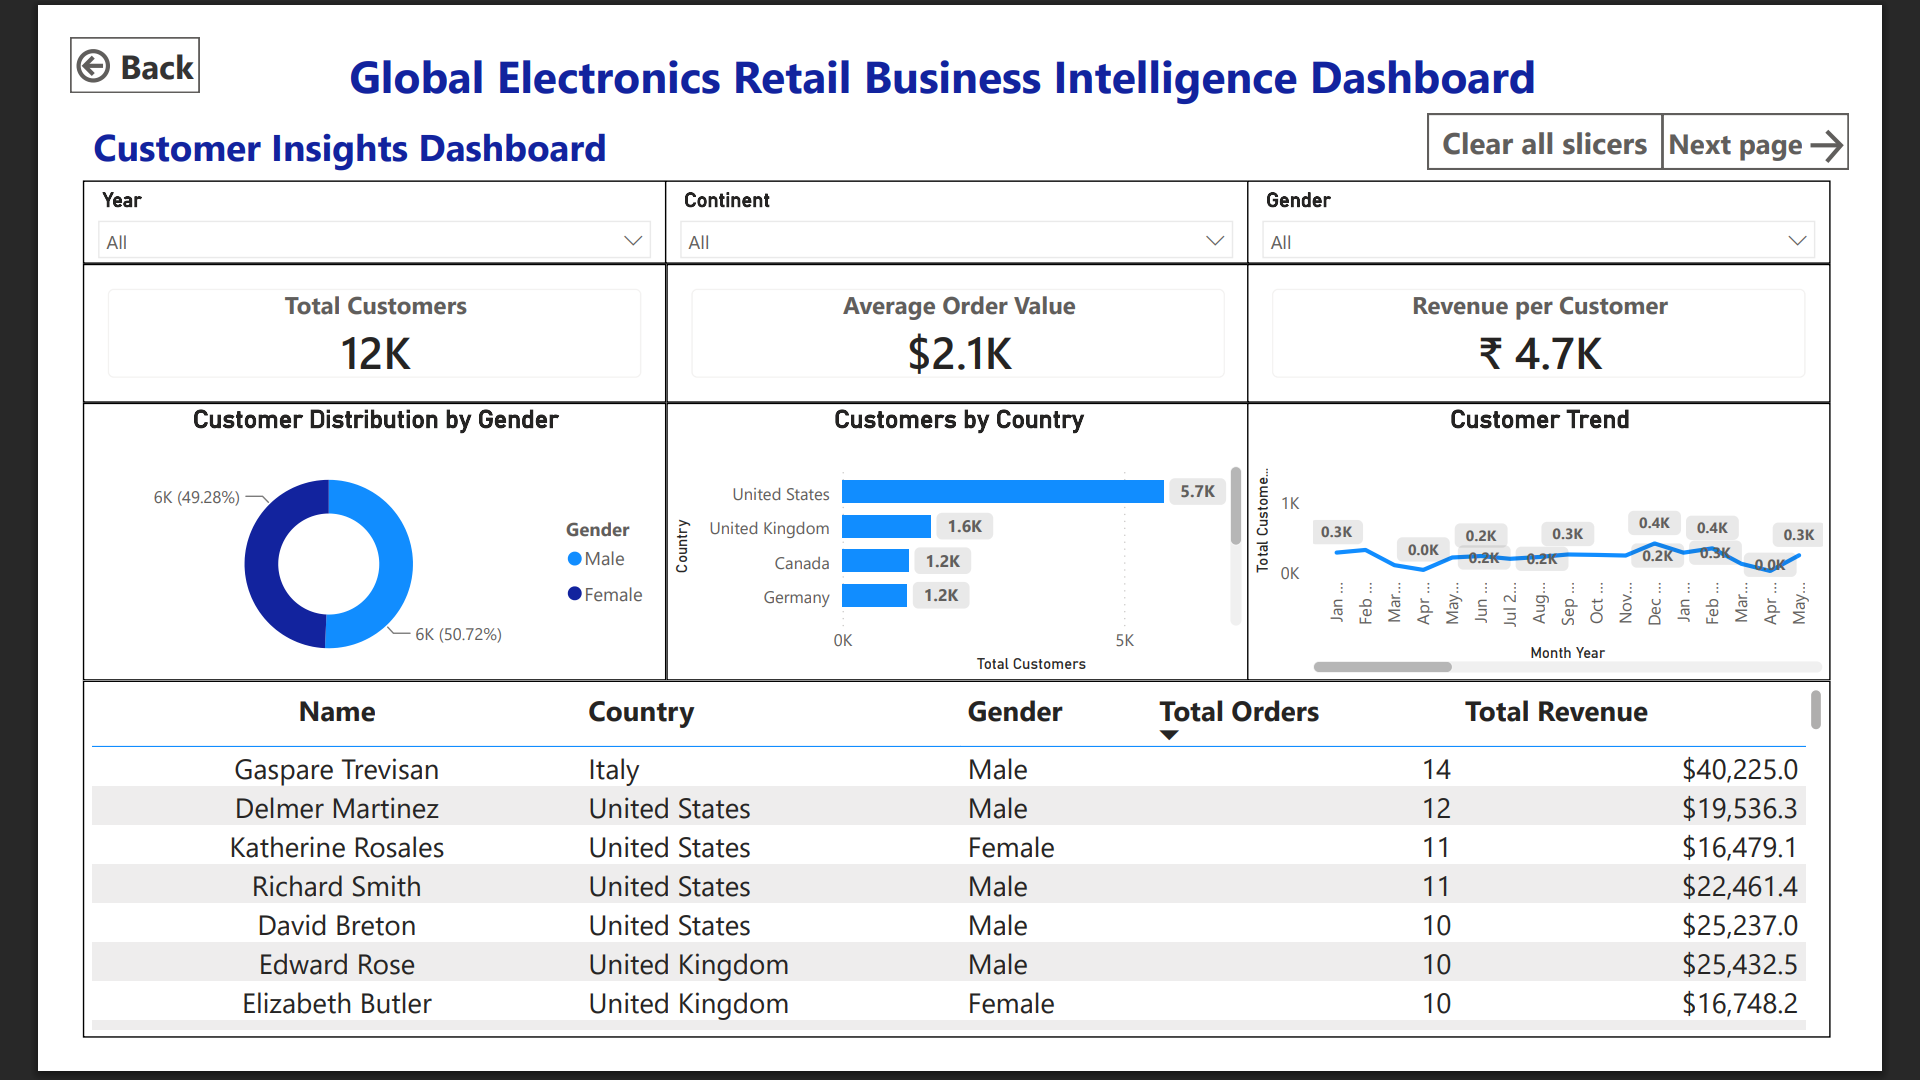

This screenshot's page, from the dashboard's own definition file:
{"tool":"powerbi","page":{"name":"Customer Insights","canvas":[1280,720],"ordinal":2},"visuals":[{"type":"textbox","box":[154.1,0,947.7,55],"z":0},{"type":"textbox","box":[8.6,55,385.2,47.7],"z":1000},{"type":"slicer","fields":{"Values":["Calendar.Year"]},"box":[8.6,102.7,420,60],"z":2000},{"type":"slicer","fields":{"Values":["Customers.Continent"]},"box":[428,102.7,420,60],"z":3000},{"type":"slicer","fields":{"Values":["Customers.Gender"]},"box":[847.4,102.7,420,60],"z":4000},{"type":"cardVisual","fields":{"Data":["Sales.Total Customers"]},"box":[8.6,162.6,420,100],"z":5000},{"type":"cardVisual","fields":{"Data":["Sales.Average Order Value"]},"box":[429.2,162.6,420,100],"z":6000},{"type":"cardVisual","fields":{"Data":["Sales.Revenue per Customer"]},"box":[847.4,162.6,420,100],"z":7000},{"type":"donutChart","title":"Customer Distribution by Gender","fields":{"Category":["Customers.Gender"],"Y":["Sales.Total Customers"]},"box":[8.6,262.9,420,200],"z":8000},{"type":"clusteredBarChart","title":"Customers by Country","fields":{"Y":["Sales.Total Customers"],"Category":["Customers.Country"]},"box":[429.2,262.9,420,200],"z":9000},{"type":"lineChart","title":"Customer Trend","fields":{"Y":["Sales.Total Customers"],"Category":["Calendar.Month Year"]},"box":[847.4,262.9,420,200],"z":10000},{"type":"tableEx","fields":{"Values":["Customers.Name","Customers.Country","Customers.Gender","Sales.Total Orders","Sales.Total Revenue"]},"box":[8.6,463.5,1258.3,256.8],"z":11000},{"type":"actionButton","box":[0,0,92.9,40.4],"z":12000},{"type":"actionButton","box":[1145.8,55,134.5,40.4],"z":13000},{"type":"actionButton","box":[977,55,168.8,40.4],"z":14000}]}

Visuals, with their boxes in screenshot pixels (x1, y1, x2, y2), scaled from the page's 1280x720 canvas onto the 1920x1080 screenshot:
textbox: select_region(231, 0, 1653, 82)
textbox: select_region(13, 82, 591, 154)
slicer - Calendar.Year: select_region(13, 154, 643, 244)
slicer - Customers.Continent: select_region(642, 154, 1272, 244)
slicer - Customers.Gender: select_region(1271, 154, 1901, 244)
cardVisual - Sales.Total Customers: select_region(13, 244, 643, 394)
cardVisual - Sales.Average Order Value: select_region(644, 244, 1274, 394)
cardVisual - Sales.Revenue per Customer: select_region(1271, 244, 1901, 394)
"Customer Distribution by Gender" donutChart: select_region(13, 394, 643, 694)
"Customers by Country" clusteredBarChart: select_region(644, 394, 1274, 694)
"Customer Trend" lineChart: select_region(1271, 394, 1901, 694)
tableEx - Customers.Name x Customers.Country: select_region(13, 695, 1900, 1079)
actionButton: select_region(0, 0, 139, 61)
actionButton: select_region(1719, 82, 1919, 143)
actionButton: select_region(1466, 82, 1719, 143)
